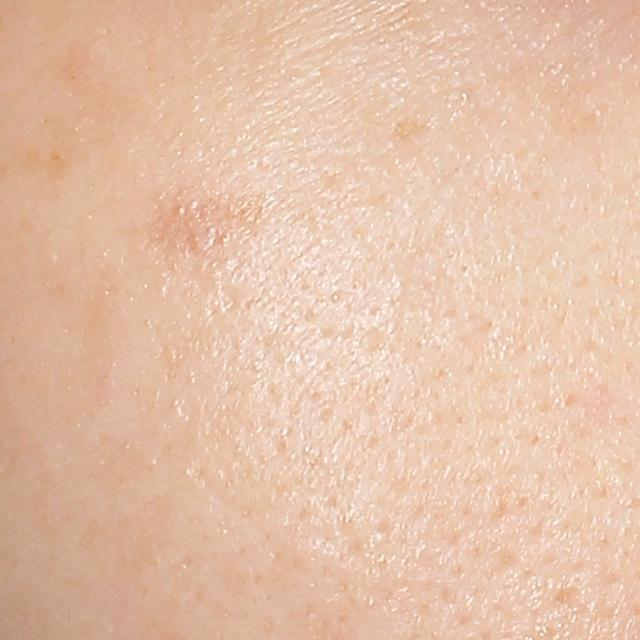melasma: (134, 175, 300, 284), (372, 105, 446, 151)
